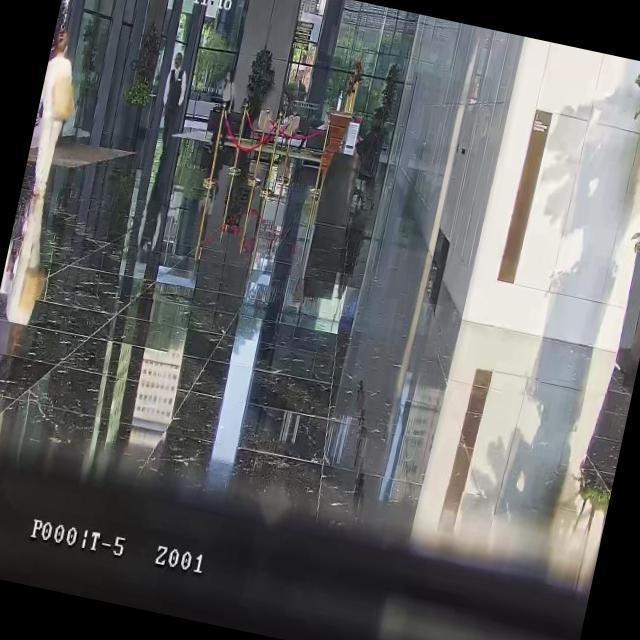person: (5, 24, 90, 272), (152, 50, 194, 156), (206, 67, 241, 156), (352, 107, 383, 174)
